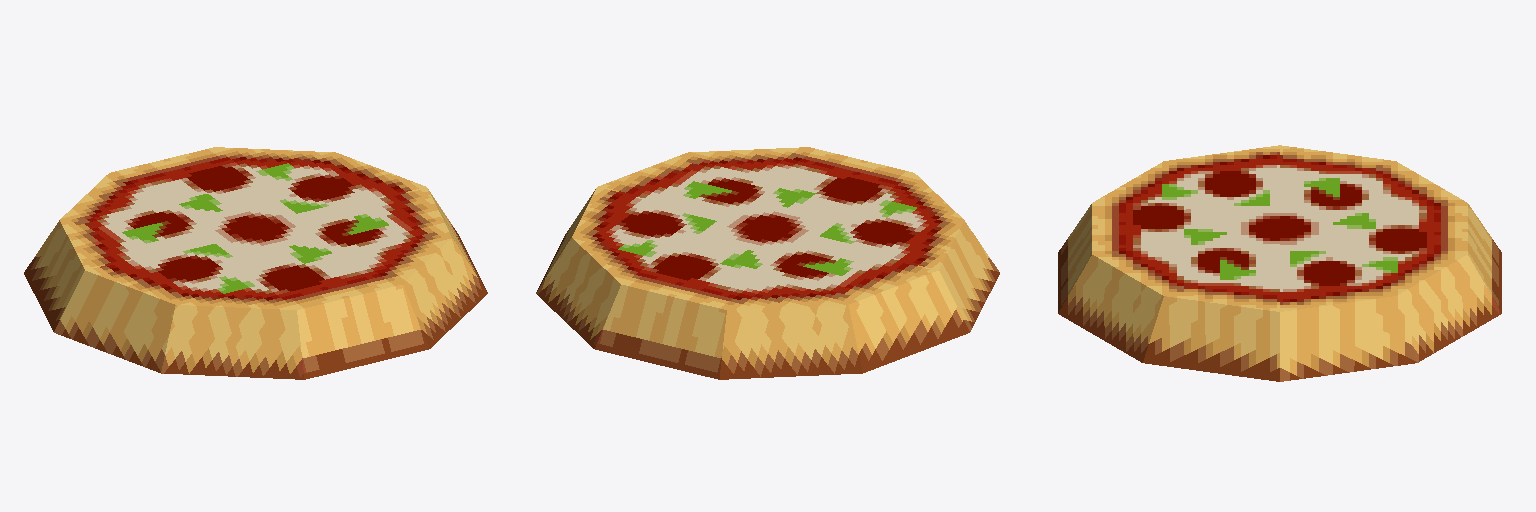
3 views of the same model, side by side, from view 1: azimuth 30°, elevation 25°; view 2: azimuth 150°, elevation 25°; view 3: azimuth 270°, elevation 25° (orthographic).
Visible parts, largest first — view 1: polygon0; view 2: polygon0; view 3: polygon0.
Boxes of the visible parts, x1=… form: polygon0: x1=24, y1=147, x2=487, y2=379; polygon0: x1=536, y1=147, x2=999, y2=379; polygon0: x1=1058, y1=145, x2=1501, y2=381.
Bounding box in the file's own units: 1.49 × 0.1919 × 1.41.
1 materials, 1 textured.